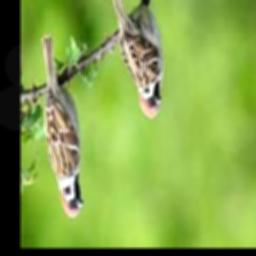Sparrow: (41, 34, 82, 218), (110, 0, 162, 119)
